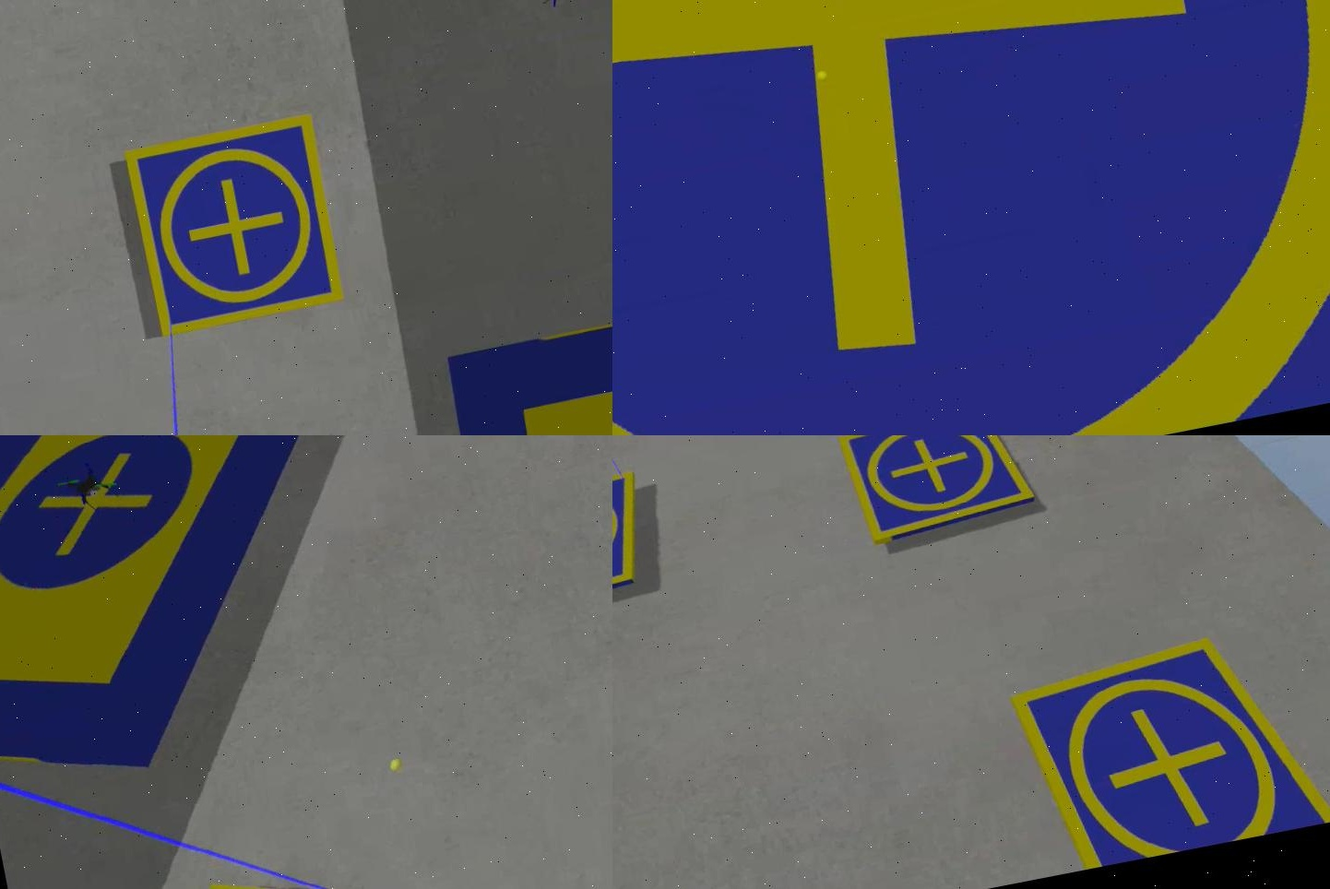large_base: (0, 435, 414, 798)
small_base: (611, 1, 1328, 435), (1005, 620, 1328, 880), (114, 110, 352, 343), (837, 435, 1039, 550), (124, 835, 476, 889), (611, 468, 658, 632)
